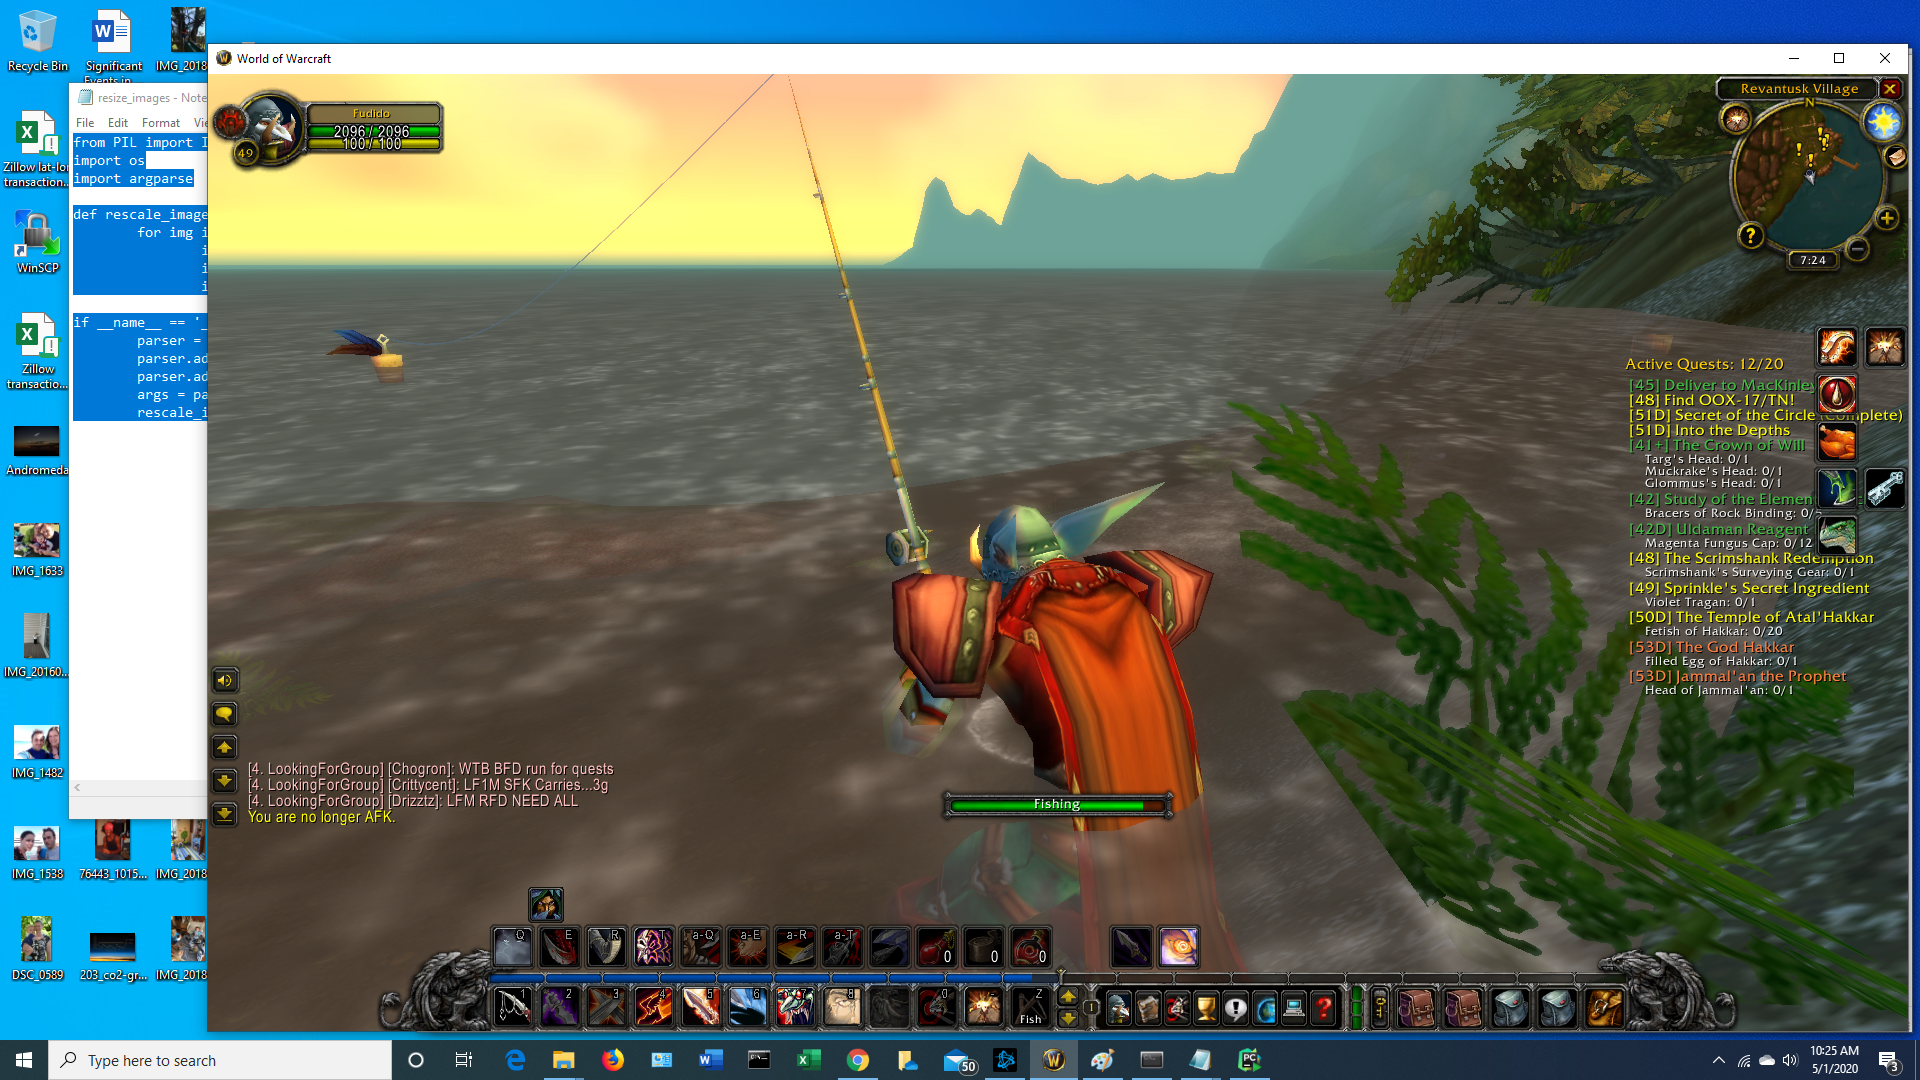bobble: (324, 320, 414, 394)
